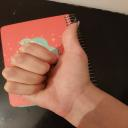ThumbsUp: (2, 20, 90, 117)
